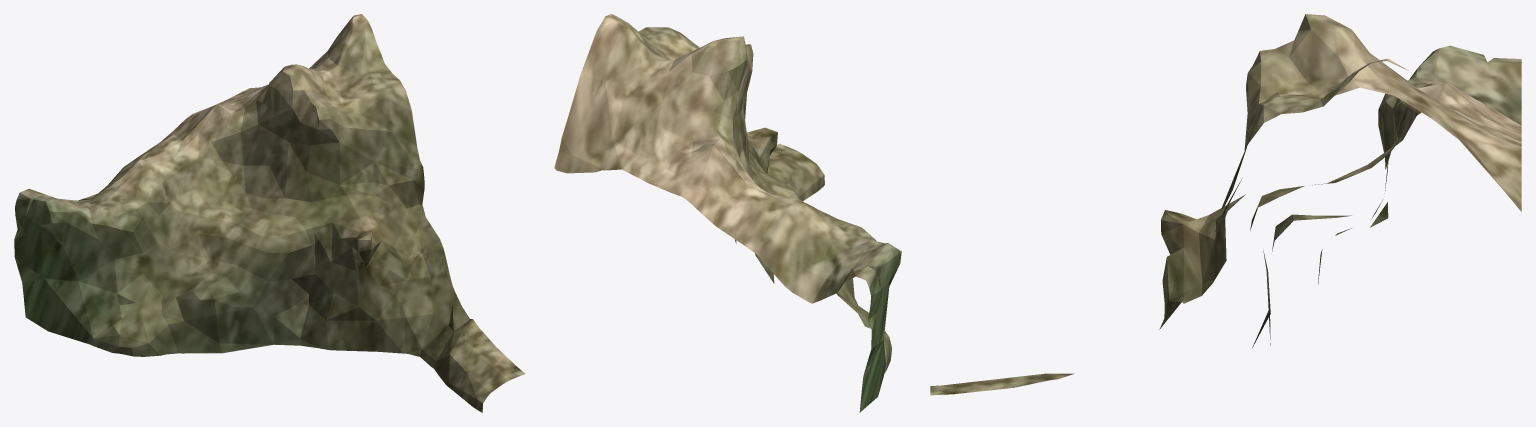
3 views of the same model, side by side, from view 1: azimuth 30°, elevation 25°; view 2: azimuth 150°, elevation 25°; view 3: azimuth 270°, elevation 25° (orthographic). The views are drawn at different scales.
Bounding box in the file's own units: 2.4 × 2.06 × 2.95.
2 materials, 2 textured.
